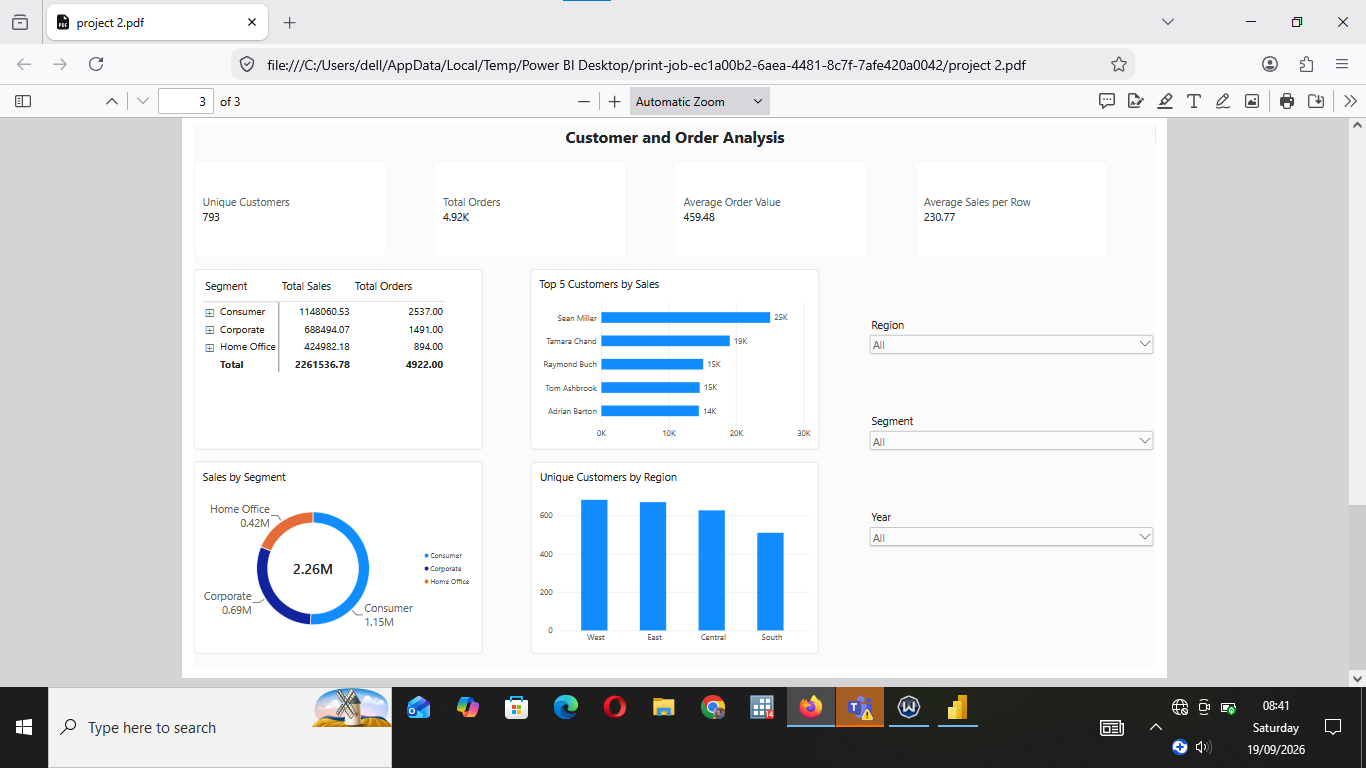

What the dashboard file says about the page in this screenshot:
{"tool":"powerbi","page":{"name":"Page 3","canvas":[1920,1080],"ordinal":2},"visuals":[{"type":"donutChart","title":"Sales by Segment","fields":{"Category":["Dim Customers.Segment"],"Y":["cleaned_retail_sales.Total sales"]},"box":[0,672,576,384],"z":0},{"type":"clusteredColumnChart","title":"Unique Customers by Region","fields":{"Category":["Dim Region.Region"],"Y":["cleaned_retail_sales.Unique Customers"]},"box":[672.8,672.8,574.5,383],"z":1},{"type":"pivotTable","fields":{"Rows":["Dim Customers.Segment","Dim Customers.Customer Name"],"Values":["cleaned_retail_sales.Total sales","cleaned_retail_sales.Total Order"]},"box":[0,288,576,360],"z":2},{"type":"barChart","title":"Top 5 Customers by Sales","fields":{"Category":["cleaned_retail_sales.Customer Name"],"Y":["cleaned_retail_sales.Total sales"]},"box":[672,288,576,360],"z":3},{"type":"cardVisual","fields":{"Data":["cleaned_retail_sales.Unique Customers"]},"box":[0,72,384,192],"z":4},{"type":"cardVisual","fields":{"Data":["cleaned_retail_sales.Total Order"]},"box":[480,72,384,192],"z":5},{"type":"cardVisual","fields":{"Data":["cleaned_retail_sales.Average order value"]},"box":[960,72,384,192],"z":6},{"type":"cardVisual","fields":{"Data":["cleaned_retail_sales.Average Sales per Row"]},"box":[1440,72,384,192],"z":7},{"type":"slicer","fields":{"Values":["Dim Region.Region"]},"box":[1344,384,576,96],"z":8},{"type":"slicer","fields":{"Values":["Dim Customers.Segment"]},"box":[1344,576,576,96],"z":9},{"type":"slicer","fields":{"Values":["Date Table.Year"]},"box":[1344,768,576,96],"z":10},{"type":"textbox","box":[96,0,1728,72],"z":11}]}

Visuals, with their boxes on the page's 1920x1080 design canvas (x1, y1, x2, y2). These are canvas units, not pixel positions in the 1366x768 screenshot, which may show the page scaled, cropped or inside an application window:
"Sales by Segment" donutChart: locate(0, 672, 576, 1056)
"Unique Customers by Region" clusteredColumnChart: locate(673, 673, 1247, 1056)
pivotTable - Dim Customers.Segment x Dim Customers.Customer Name: locate(0, 288, 576, 648)
"Top 5 Customers by Sales" barChart: locate(672, 288, 1248, 648)
cardVisual - cleaned_retail_sales.Unique Customers: locate(0, 72, 384, 264)
cardVisual - cleaned_retail_sales.Total Order: locate(480, 72, 864, 264)
cardVisual - cleaned_retail_sales.Average order value: locate(960, 72, 1344, 264)
cardVisual - cleaned_retail_sales.Average Sales per Row: locate(1440, 72, 1824, 264)
slicer - Dim Region.Region: locate(1344, 384, 1920, 480)
slicer - Dim Customers.Segment: locate(1344, 576, 1920, 672)
slicer - Date Table.Year: locate(1344, 768, 1920, 864)
textbox: locate(96, 0, 1824, 72)
